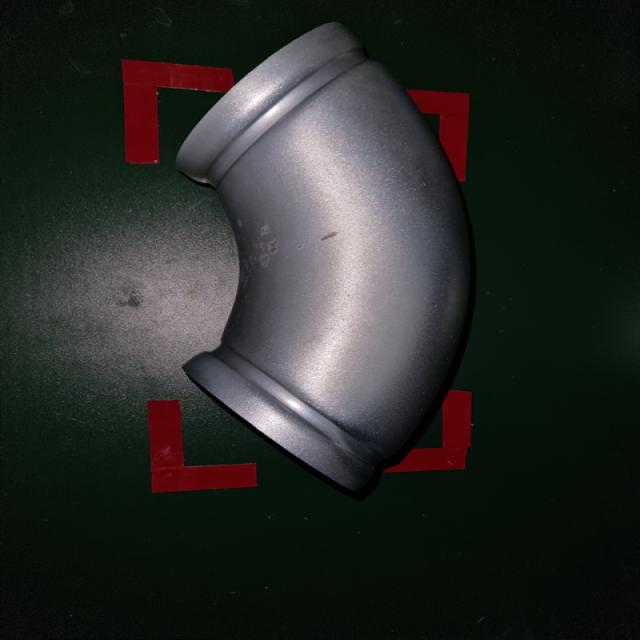Defect: (167, 18, 486, 503)
Hole: (222, 215, 350, 288)
